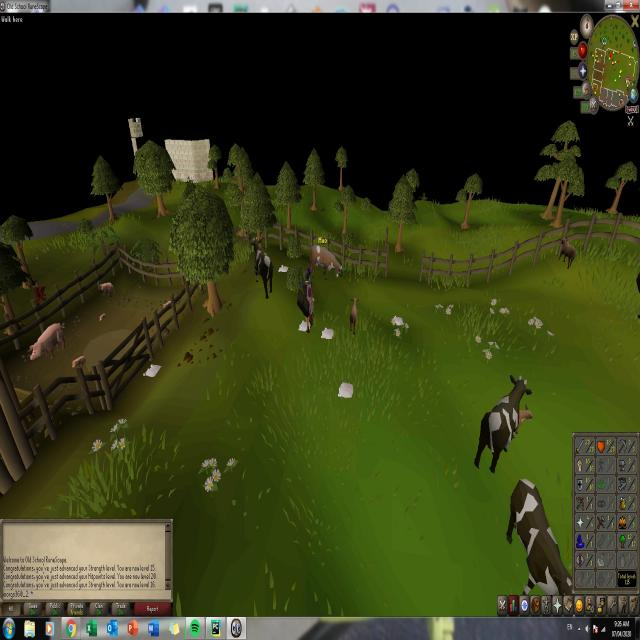cow: (505, 477, 571, 595), (476, 366, 531, 474), (250, 235, 276, 299), (308, 242, 344, 282), (558, 232, 575, 272), (518, 402, 532, 435), (348, 294, 358, 335)
player: (298, 264, 316, 333)
